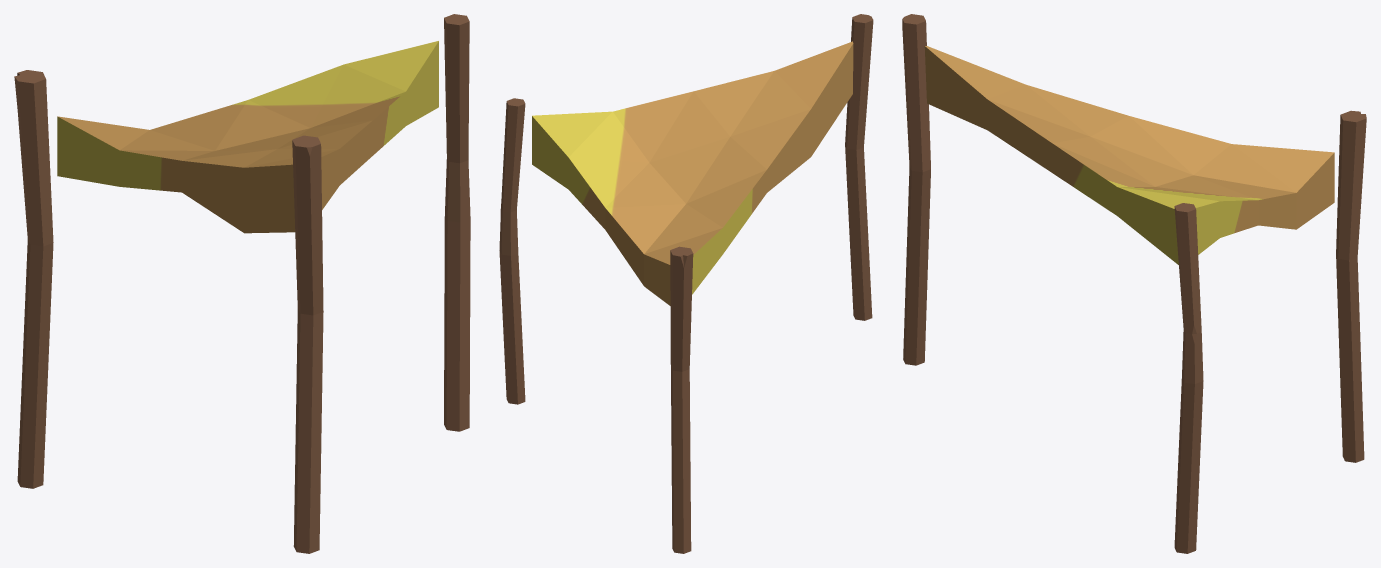
Rendered from Tent_3.fbx.
3 renders of one model, left to right at view 1: azimuth 30°, elevation 25°; view 2: azimuth 150°, elevation 25°; view 3: azimuth 270°, elevation 25°, orthographic. The views are drawn at different scales.
Parts seen in each view (by area): view 1: Tent_3; view 2: Tent_3; view 3: Tent_3.
Part boxes in pixels (box(x1,y1,x2,y2)): Tent_3: box(14, 14, 470, 553); Tent_3: box(499, 14, 873, 553); Tent_3: box(902, 14, 1366, 553).
Bounding box in the file's own units: 258 × 193 × 273.
